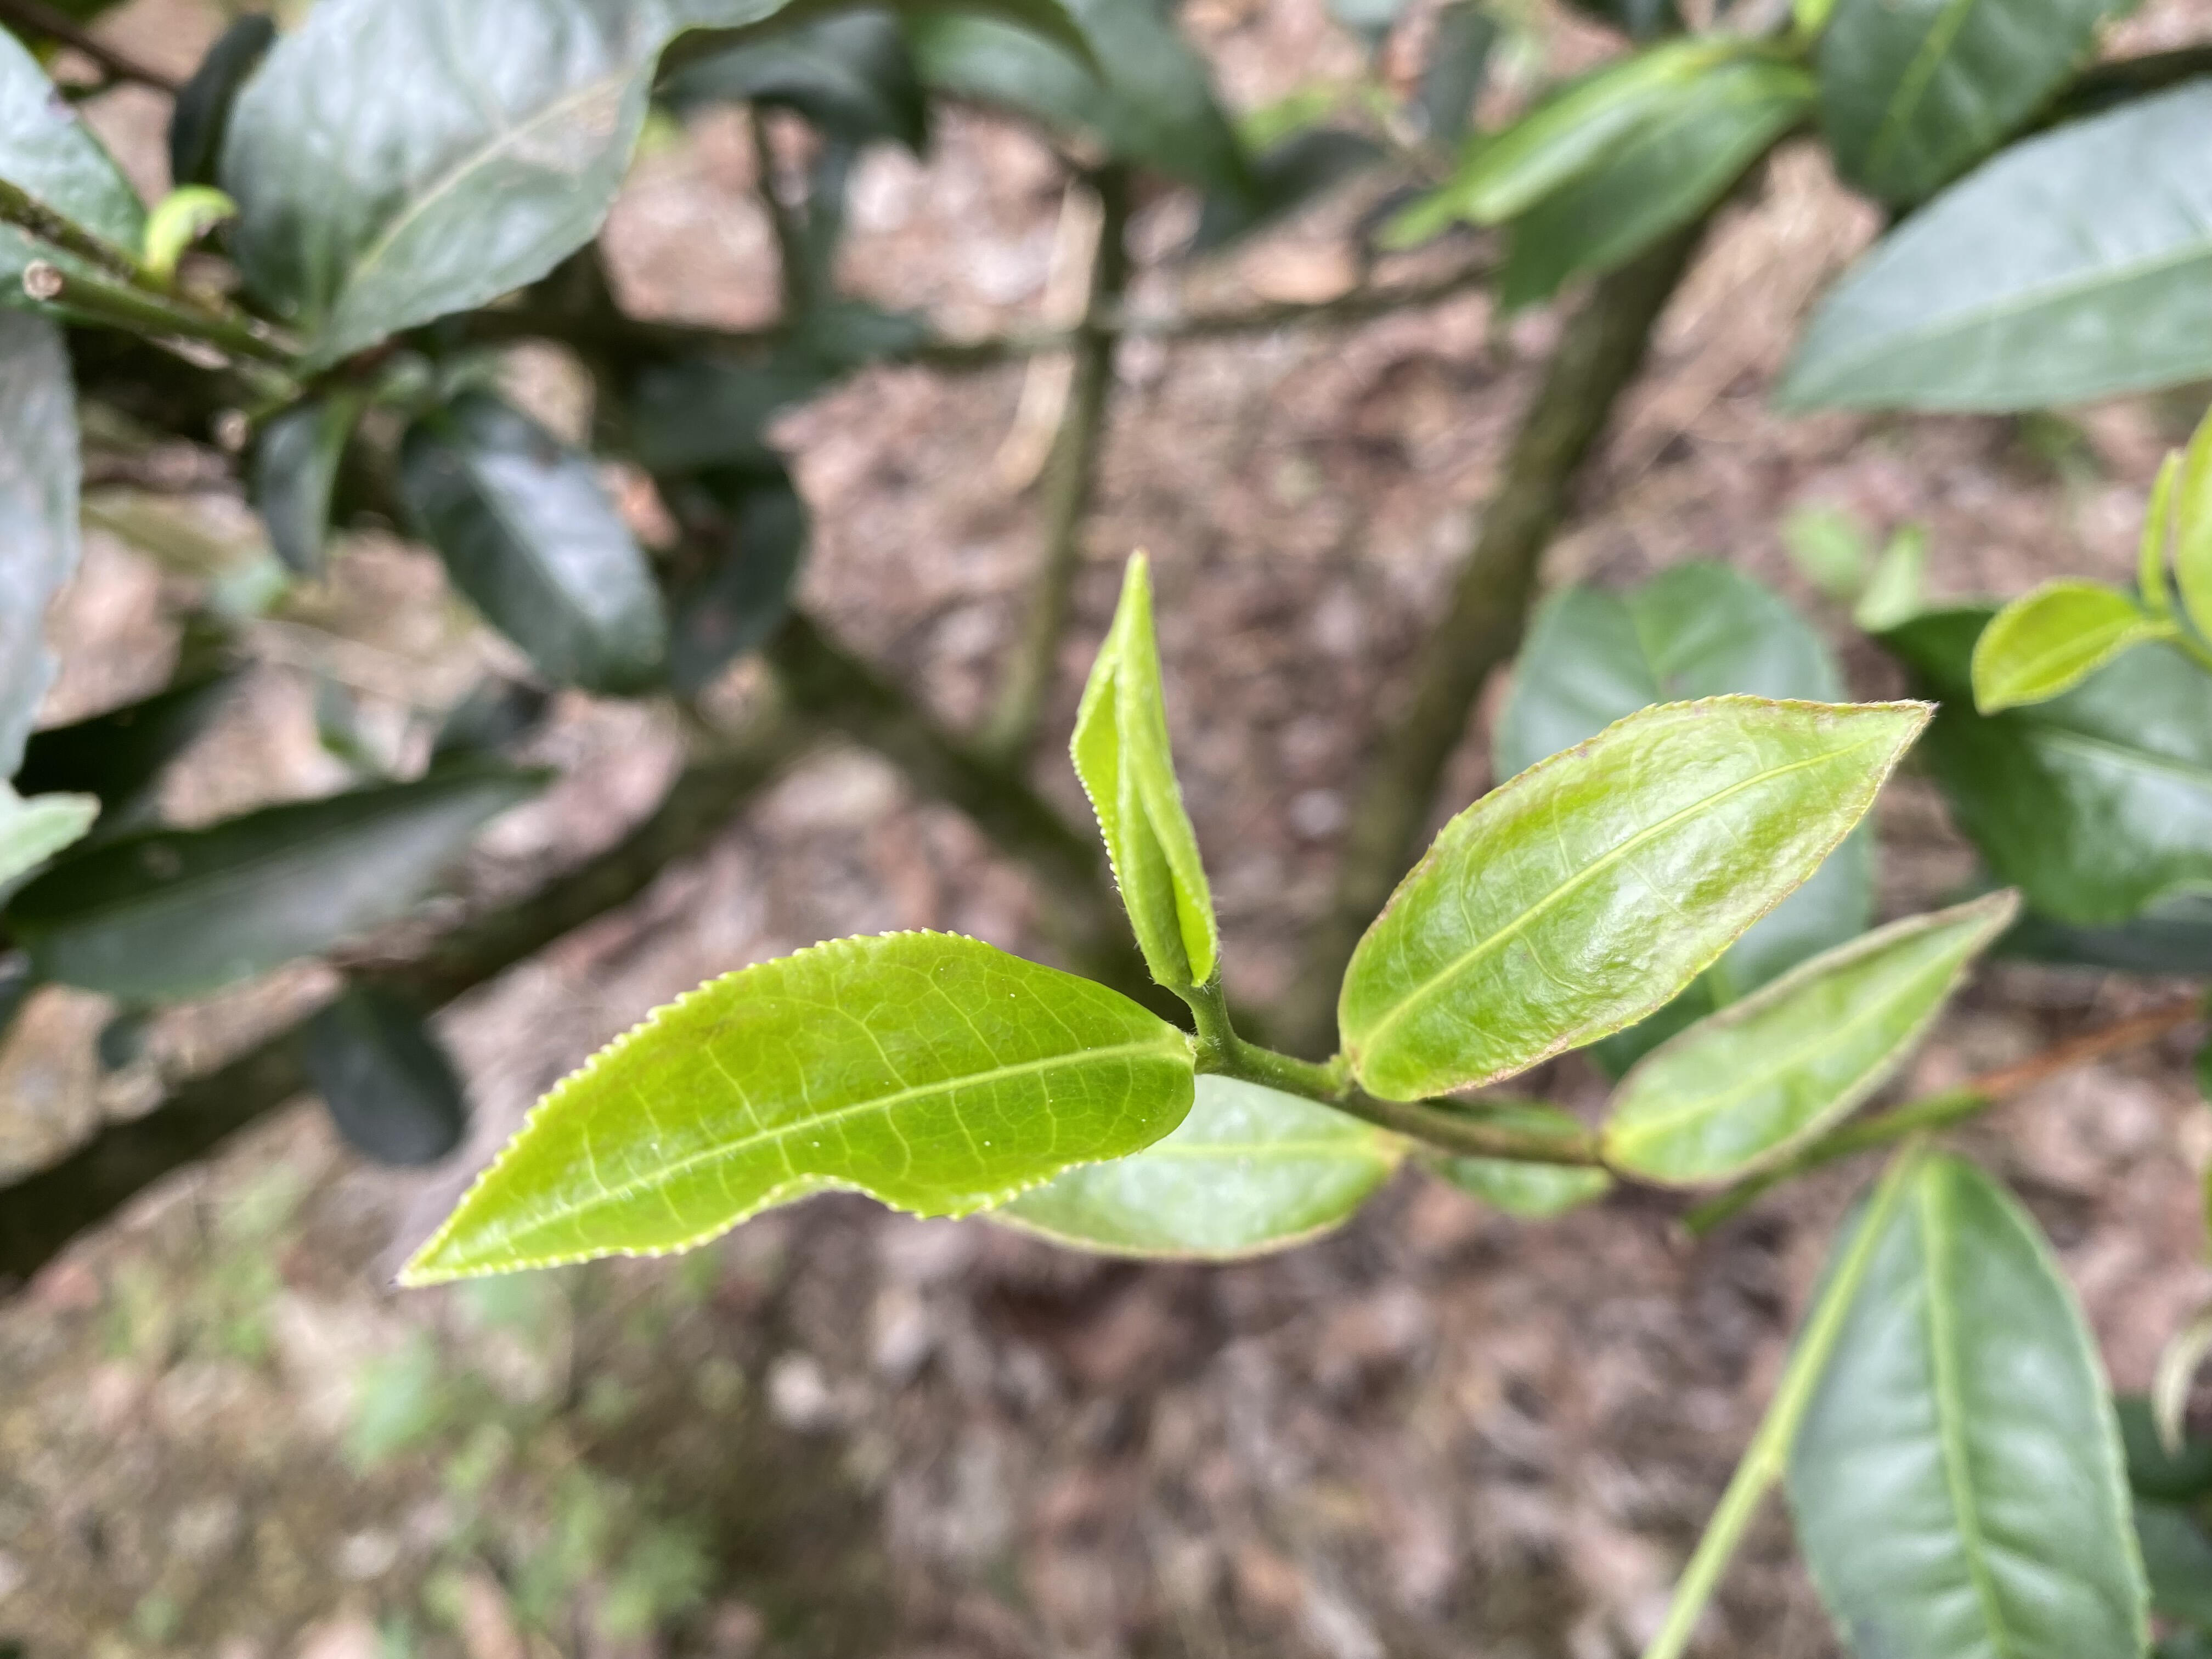healthy: (394, 929, 1193, 1295)
tanju_low: (1331, 692, 1946, 1107), (1599, 885, 2027, 1199)
